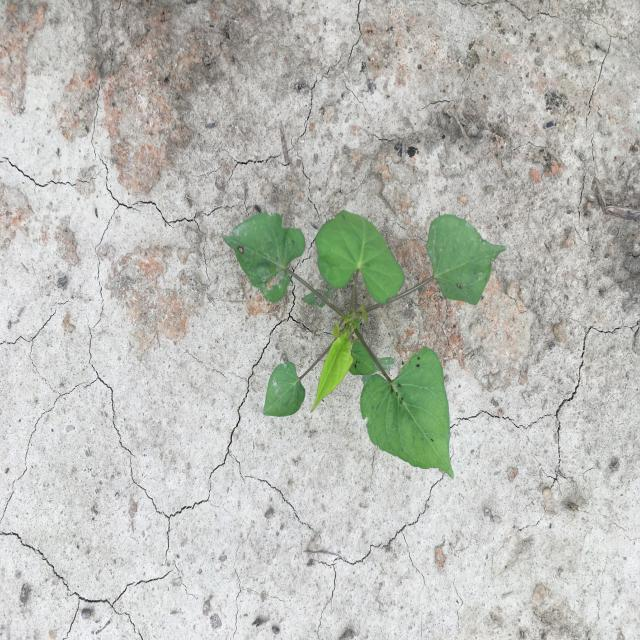MorningGlory: (220, 210, 508, 479)
